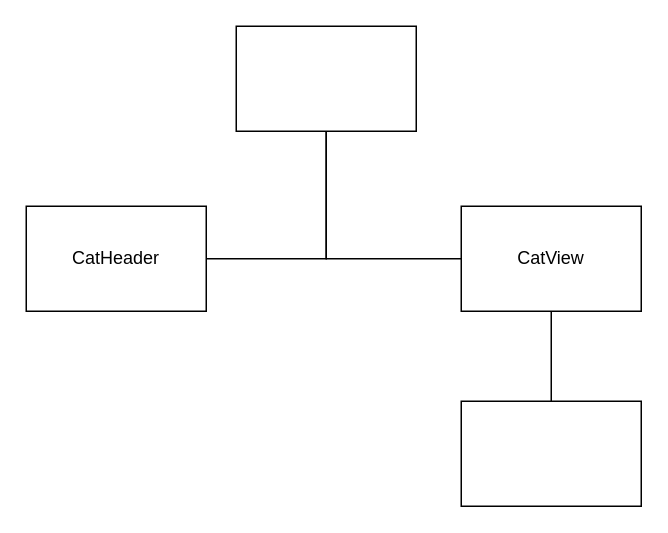
This 668x533 diagram has some shape labels left out. The shapes that lost their labels are listed below. From the top down, each one's centre as x and y in pixels, then its label:
[325,78]: App
[550,453]: CatTabel
